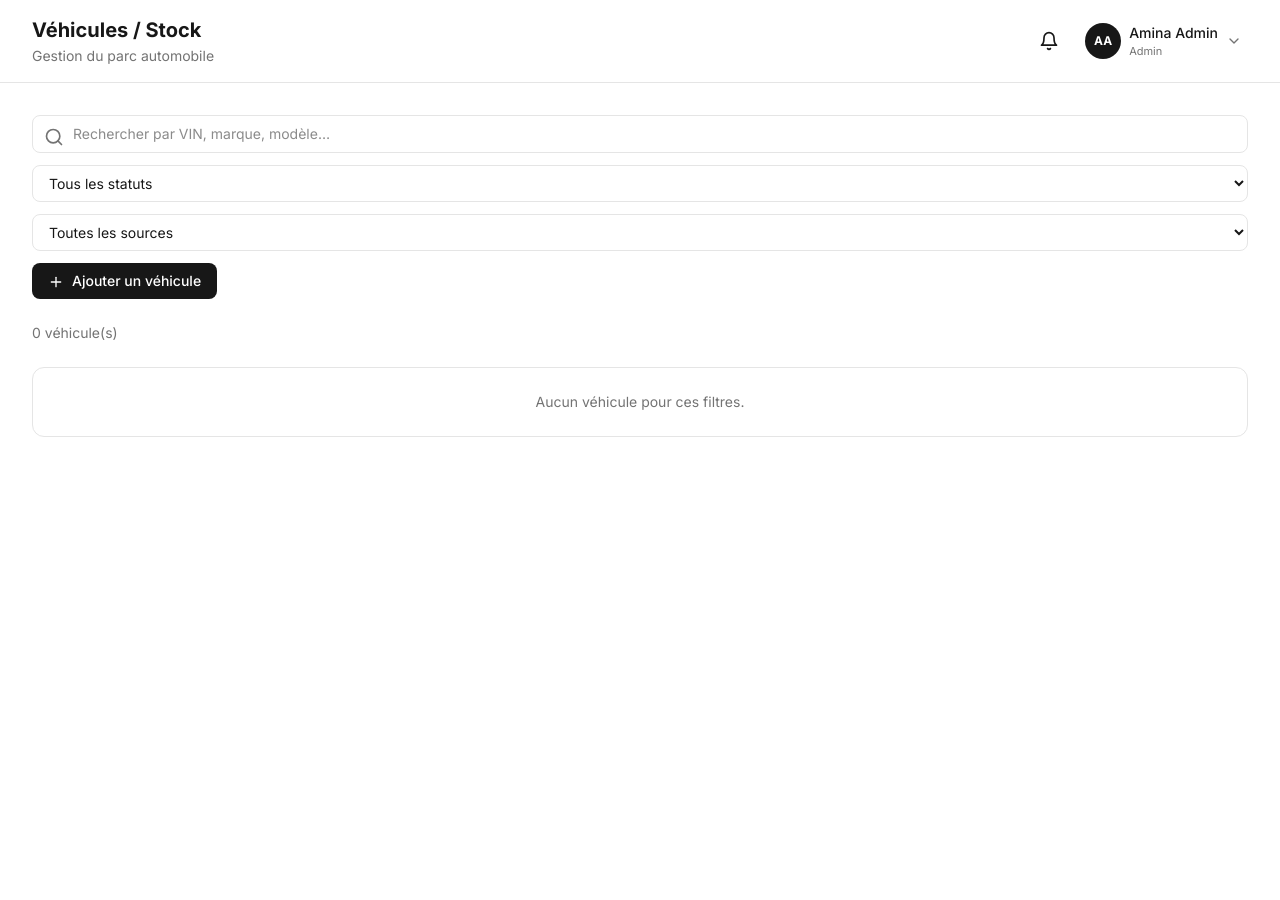
Test: UI polish navigation and vehicle photos › renders three ordered upload slots and blocks submission when they are incomplete
This screenshot has width=1280, height=900.
Expected: the text "Aucun véhicule pour ces filtres." is shown, [32,367,1248,437]
Click the button "Ajouter un véhicule".
click(125, 281)  # box [32,263,217,299]
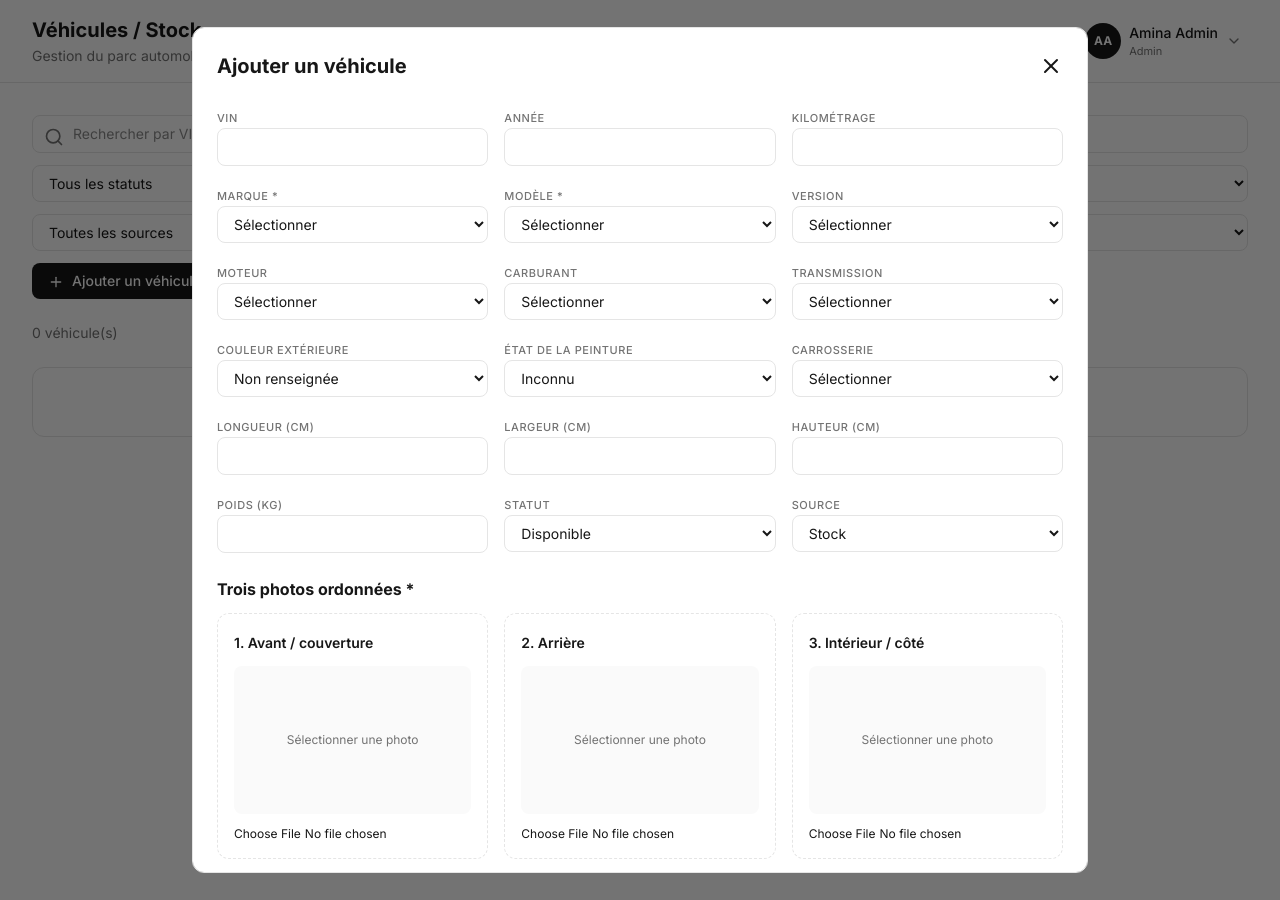
Now the number of file fields is 3, box [234,826,471,842]; [521,826,759,842]; [809,826,1046,842]
Select "BYD" in the dropdown labelled "Marque *" at (353, 224), box [217,206,488,243]
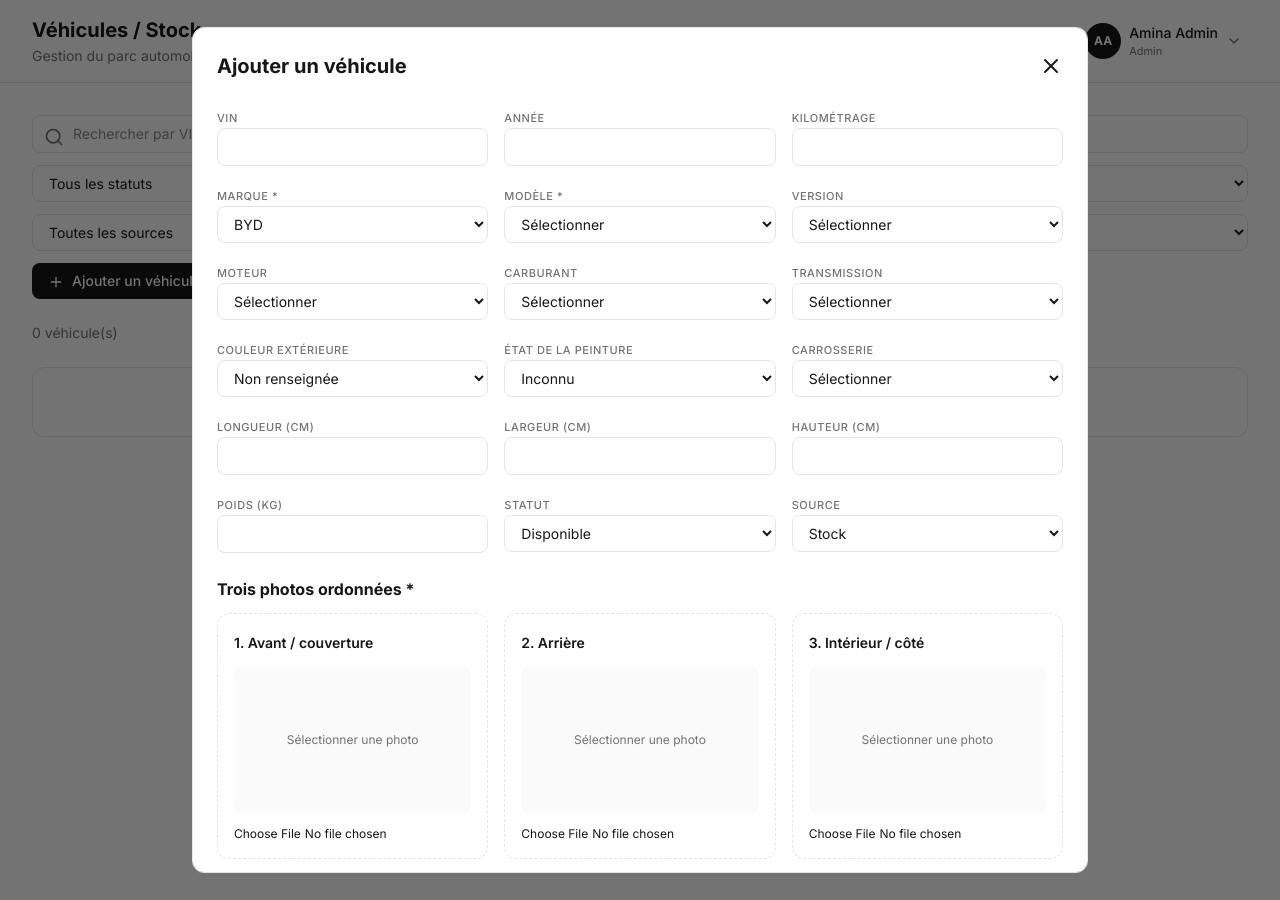
Select "Seal" in the dropdown labelled "Modèle *" at (640, 224), box [504,206,776,243]
(page scrolled)
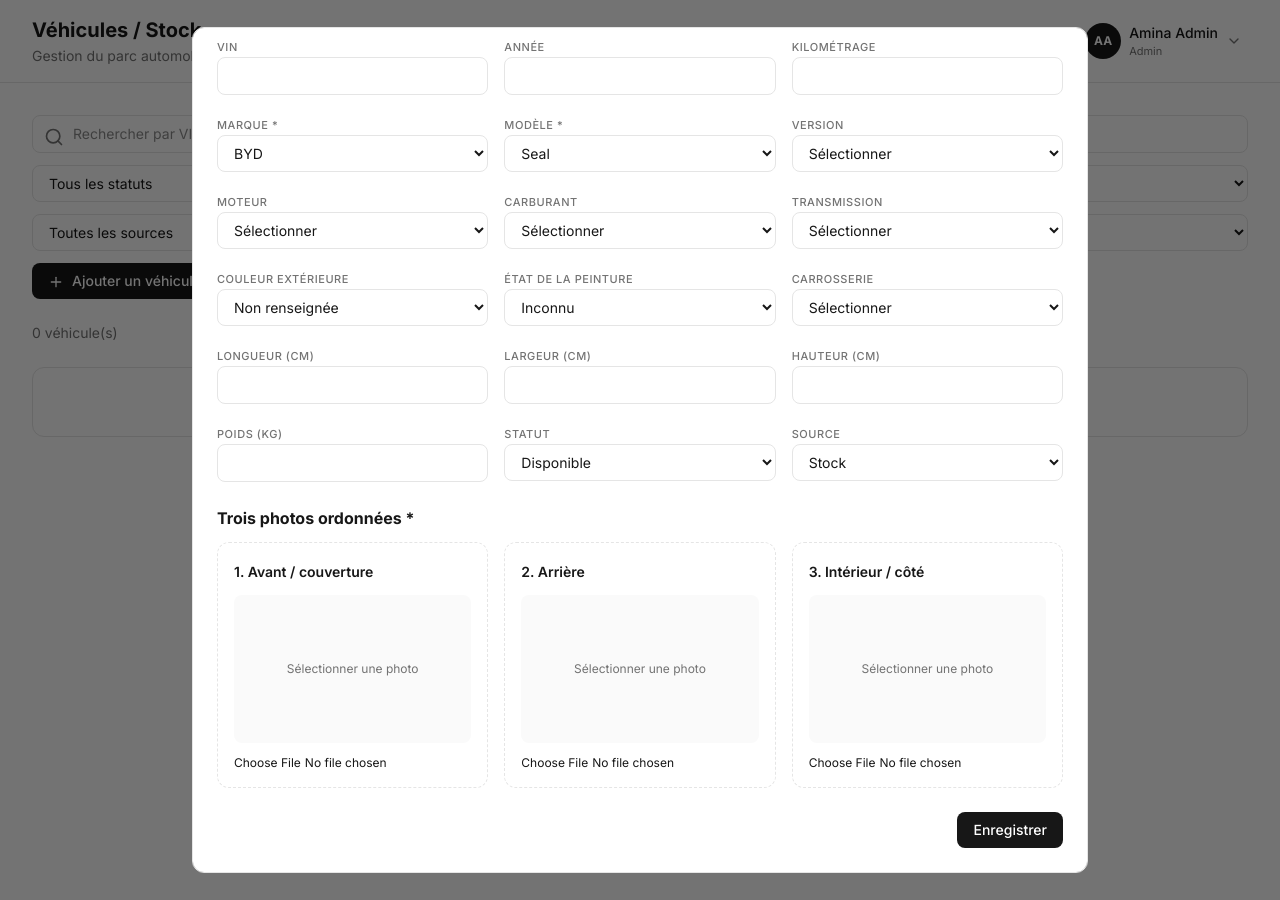
Click the button "Enregistrer".
click(1010, 830)  # box [958,812,1063,848]
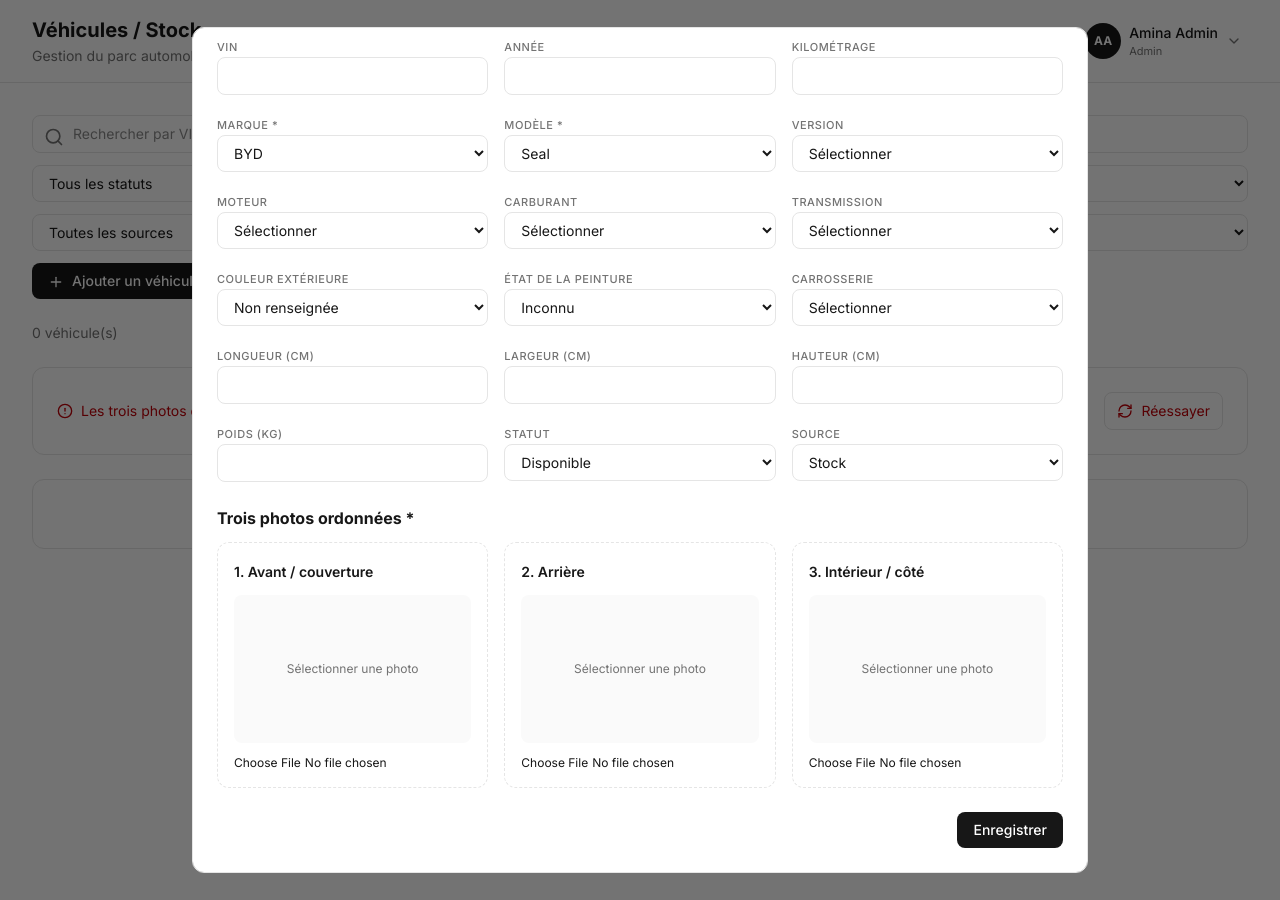
Now the text "Les trois photos distinctes sont obligatoires." is shown, box [57,401,372,421]
